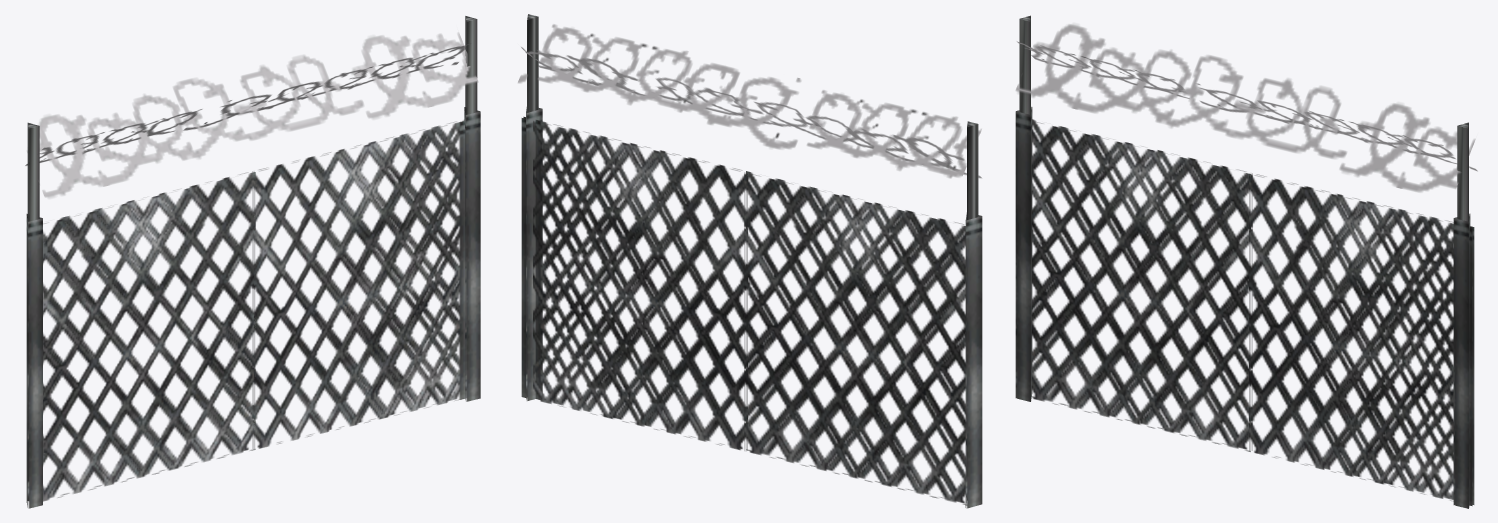
File: Environment - Prop - Chain Link Fence 01 - Damaged - PMWallChn4_D.glb
The picture shows the model from 3 angles, left to right: view 1: azimuth 30°, elevation 25°; view 2: azimuth 150°, elevation 25°; view 3: azimuth 330°, elevation 25°; orthographic projection.
Parts seen in each view (by area): view 1: PMWALLCHN4_D; view 2: PMWALLCHN4_D; view 3: PMWALLCHN4_D.
Boxes of the visible parts, x1,y1,x2,y2 form: PMWALLCHN4_D: (25,16,480,508); PMWALLCHN4_D: (518,14,982,508); PMWALLCHN4_D: (1015,15,1477,508).
Size of the model in its own units: 28.35 by 22.65 by 3.53.
Materials: 2 (2 with a texture image).
